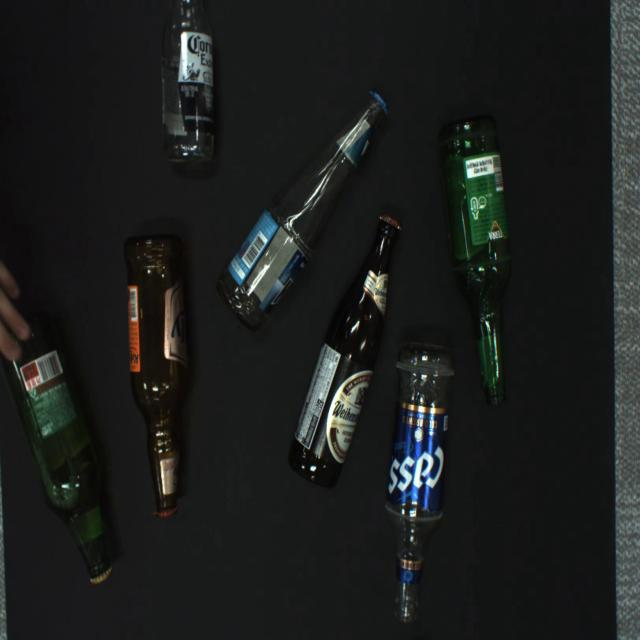beer-bottle: (216, 90, 389, 331), (288, 214, 403, 488), (0, 312, 112, 586), (438, 115, 511, 407), (384, 340, 455, 625), (123, 235, 190, 519), (161, 0, 214, 163)
